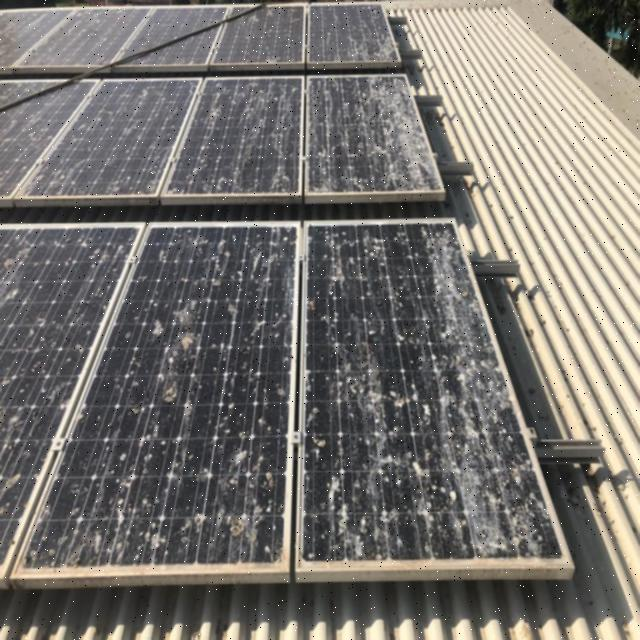bird drop: (26, 228, 292, 562), (304, 224, 563, 561), (0, 230, 135, 558), (168, 81, 299, 191), (307, 80, 438, 188)
